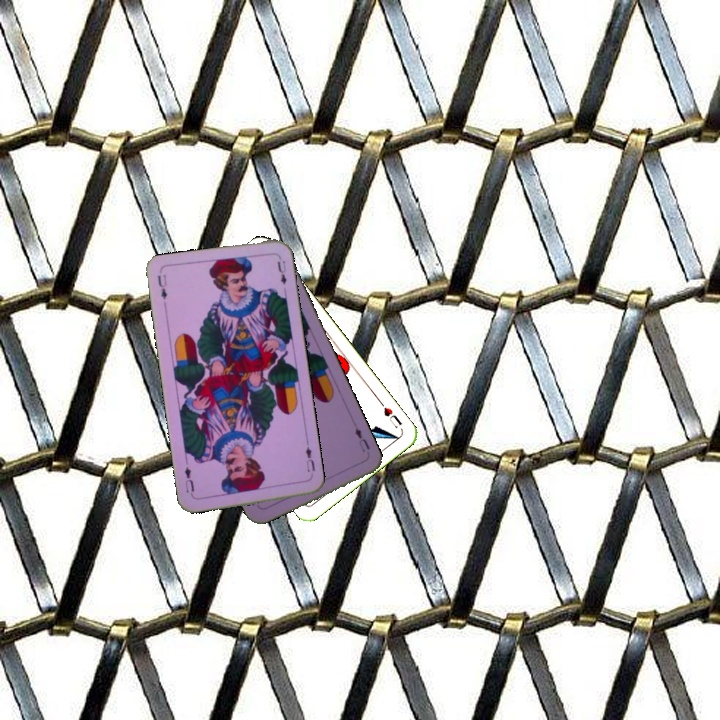EU: (351, 424, 372, 455), (302, 440, 318, 480), (153, 270, 169, 310)
HU: (376, 398, 405, 431)
